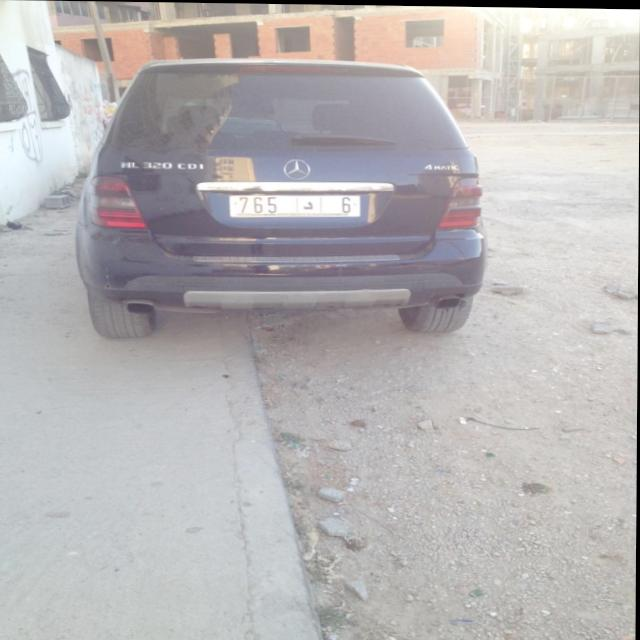License-Plate: (229, 194, 361, 216)
